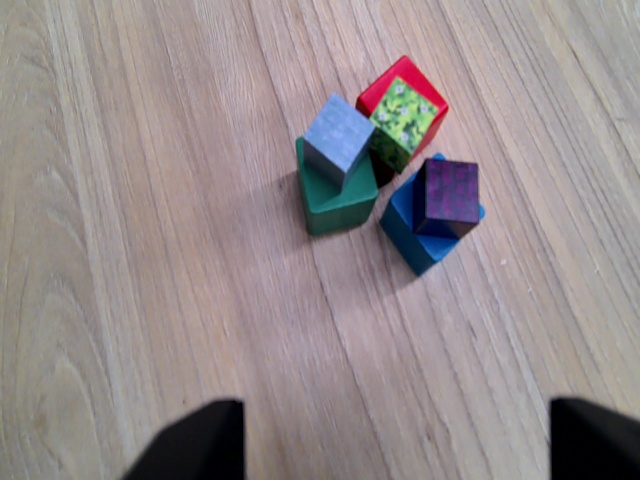brick: (412, 153, 477, 244)
grass: (369, 83, 438, 167)
stone: (305, 95, 369, 191)
